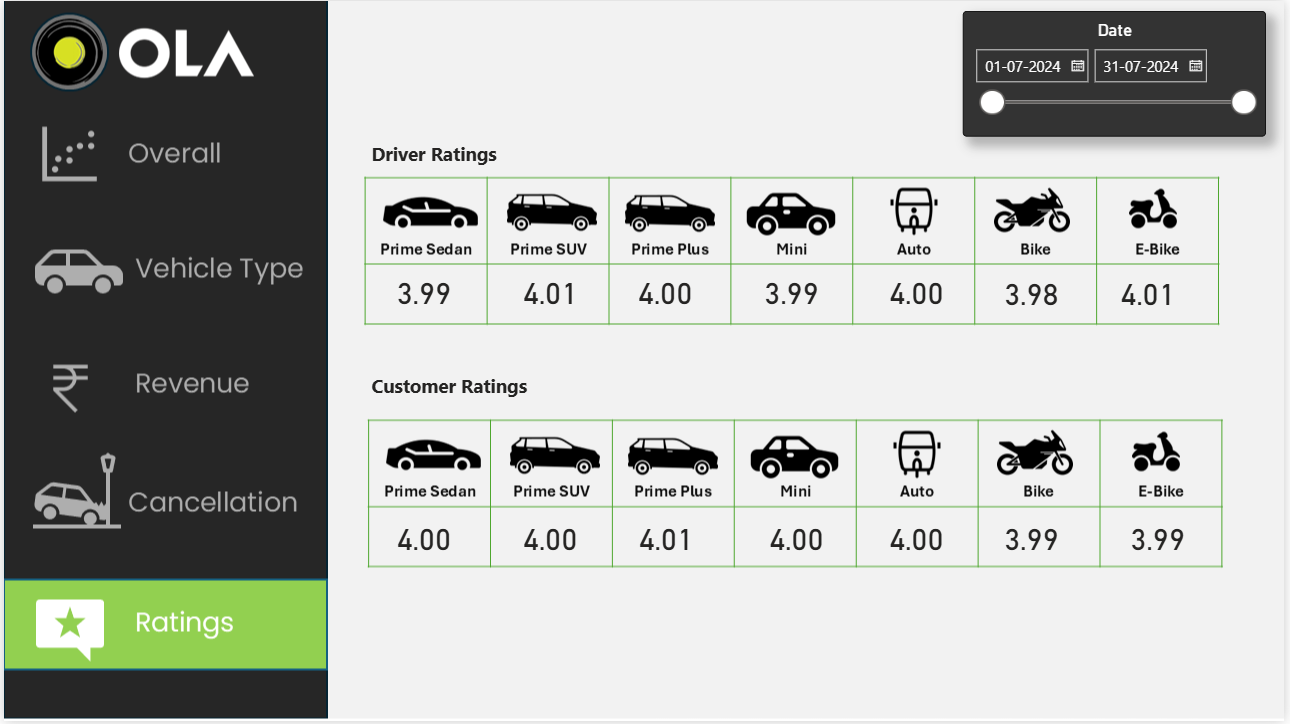

This screenshot's page, from the dashboard's own definition file:
{"tool":"powerbi","page":{"name":"Ratings","canvas":[1280,720],"ordinal":4},"visuals":[{"type":"actionButton","box":[0,220.8,325.7,92.9],"z":0},{"type":"actionButton","box":[0,339,325.7,92.9],"z":1000},{"type":"actionButton","box":[0,445.2,325.7,92.9],"z":2000},{"type":"actionButton","box":[0,106.2,325.7,92.9],"z":3000},{"type":"card","fields":{"Values":["Avg(July.Driver_Ratings)"]},"box":[362,267.6,115.5,46.5],"z":4000},{"type":"card","fields":{"Values":["Avg(July.Driver_Ratings)"]},"box":[488.7,267.6,115.5,46.5],"z":5000},{"type":"card","fields":{"Values":["Avg(July.Driver_Ratings)"]},"box":[604.2,267.6,115.5,46.5],"z":6000},{"type":"card","fields":{"Values":["Avg(July.Driver_Ratings)"]},"box":[735.2,267.6,105.6,46.5],"z":7000},{"type":"card","fields":{"Values":["Avg(July.Driver_Ratings)"]},"box":[854.9,267.6,115.5,46.5],"z":8000},{"type":"card","fields":{"Values":["Avg(July.Driver_Ratings)"]},"box":[970.4,269,115.5,46.5],"z":9000},{"type":"card","fields":{"Values":["Avg(July.Driver_Ratings)"]},"box":[1085.9,269,115.5,46.5],"z":10000},{"type":"card","fields":{"Values":["Avg(July.Customer_Rating)"]},"box":[362,514.1,115.5,46.5],"z":11000},{"type":"textbox","box":[362,135.2,184.5,36.6],"z":12000},{"type":"textbox","box":[362,367.6,205.6,36.6],"z":13000},{"type":"card","fields":{"Values":["Avg(July.Customer_Rating)"]},"box":[488.7,514.1,115.5,46.5],"z":14000},{"type":"card","fields":{"Values":["Avg(July.Customer_Rating)"]},"box":[604.2,514.1,116.9,46.5],"z":15000},{"type":"card","fields":{"Values":["Avg(July.Customer_Rating)"]},"box":[735.2,514.1,115.5,46.5],"z":16000},{"type":"card","fields":{"Values":["Avg(July.Customer_Rating)"]},"box":[854.9,514.1,115.5,46.5],"z":17000},{"type":"card","fields":{"Values":["Avg(July.Customer_Rating)"]},"box":[970.4,514.1,115.5,46.5],"z":18000},{"type":"card","fields":{"Values":["Avg(July.Customer_Rating)"]},"box":[1095.8,514.1,115.5,46.5],"z":19000},{"type":"slicer","title":"Date","fields":{"Values":["July.Date"]},"box":[959.2,9.9,302.8,125.4],"z":20000}]}

Visuals, with their boxes in screenshot pixels (x1, y1, x2, y2), scaled from the page's 1280x720 canvas onto the 1290x724 screenshot:
actionButton: [0, 222, 328, 315]
actionButton: [0, 341, 328, 434]
actionButton: [0, 448, 328, 541]
actionButton: [0, 107, 328, 200]
card - Avg(July.Driver_Ratings): [365, 269, 481, 316]
card - Avg(July.Driver_Ratings): [493, 269, 609, 316]
card - Avg(July.Driver_Ratings): [609, 269, 725, 316]
card - Avg(July.Driver_Ratings): [741, 269, 847, 316]
card - Avg(July.Driver_Ratings): [862, 269, 978, 316]
card - Avg(July.Driver_Ratings): [978, 270, 1094, 317]
card - Avg(July.Driver_Ratings): [1094, 270, 1211, 317]
card - Avg(July.Customer_Rating): [365, 517, 481, 564]
textbox: [365, 136, 551, 173]
textbox: [365, 370, 572, 406]
card - Avg(July.Customer_Rating): [493, 517, 609, 564]
card - Avg(July.Customer_Rating): [609, 517, 727, 564]
card - Avg(July.Customer_Rating): [741, 517, 857, 564]
card - Avg(July.Customer_Rating): [862, 517, 978, 564]
card - Avg(July.Customer_Rating): [978, 517, 1094, 564]
card - Avg(July.Customer_Rating): [1104, 517, 1221, 564]
"Date" slicer: [967, 10, 1272, 136]
